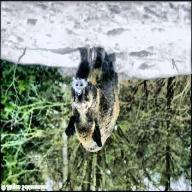boar: (67, 48, 128, 152)
